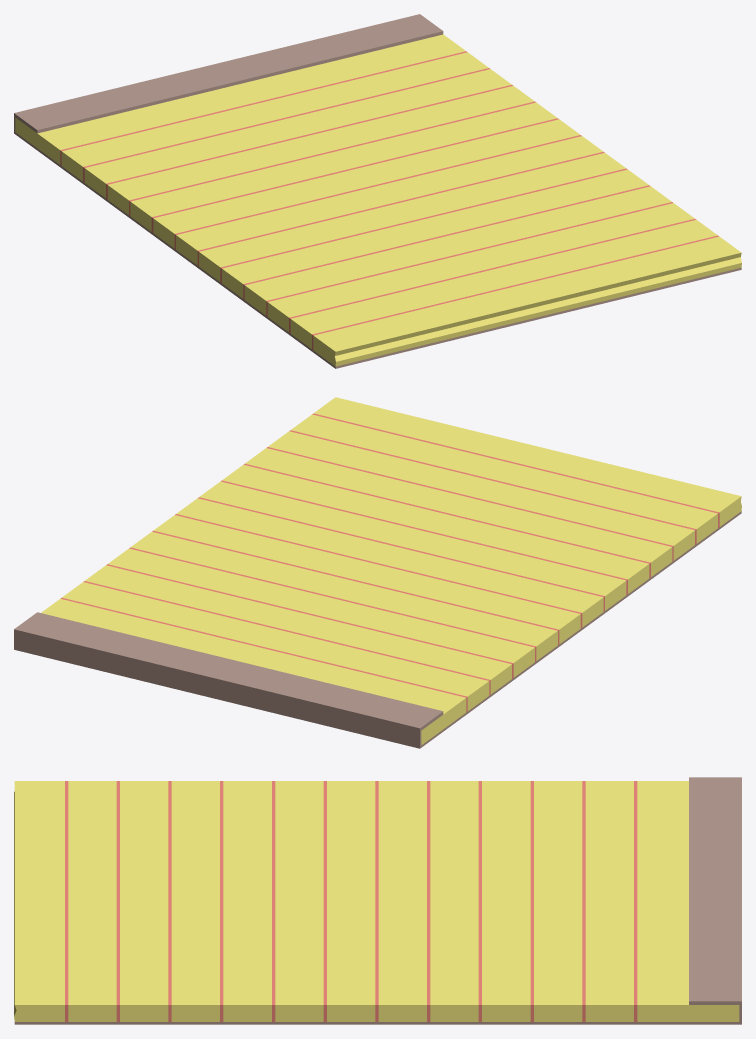
File: Notebook_01.gltf
3 views of the same model, one above another, from view 1: azimuth 30°, elevation 25°; view 2: azimuth 150°, elevation 25°; view 3: azimuth 270°, elevation 25° (orthographic). The views are drawn at different scales.
Parts seen in each view (by area): view 1: node-0; view 2: node-0; view 3: node-0.
Part boxes in pixels (left/top/right/bottom): node-0: left=14, top=14, right=741, bottom=368; node-0: left=14, top=397, right=741, bottom=748; node-0: left=14, top=777, right=741, bottom=1024.
Bounding box in the file's own units: 7.18 × 0.3453 × 9.86.
